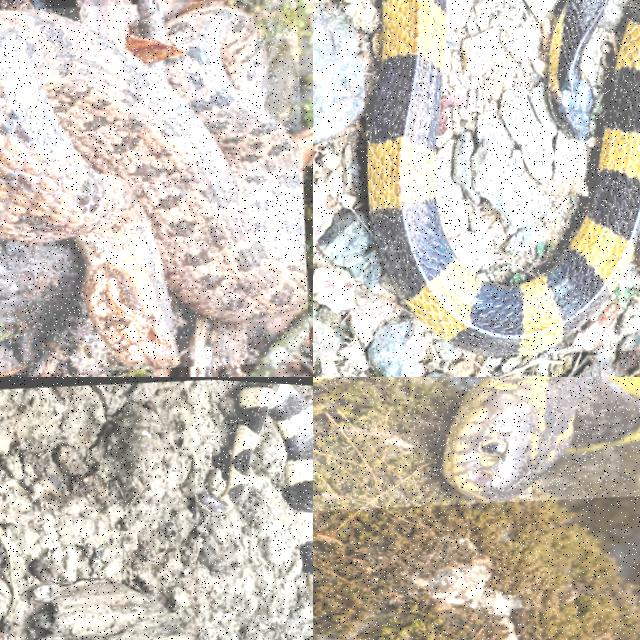Bungarus fasciatus: (368, 0, 639, 356), (443, 377, 639, 503), (196, 382, 312, 591)
Ovophis monticola: (0, 8, 305, 368)
snake: (0, 8, 305, 368), (368, 0, 639, 356), (443, 377, 639, 503), (196, 382, 312, 591)
